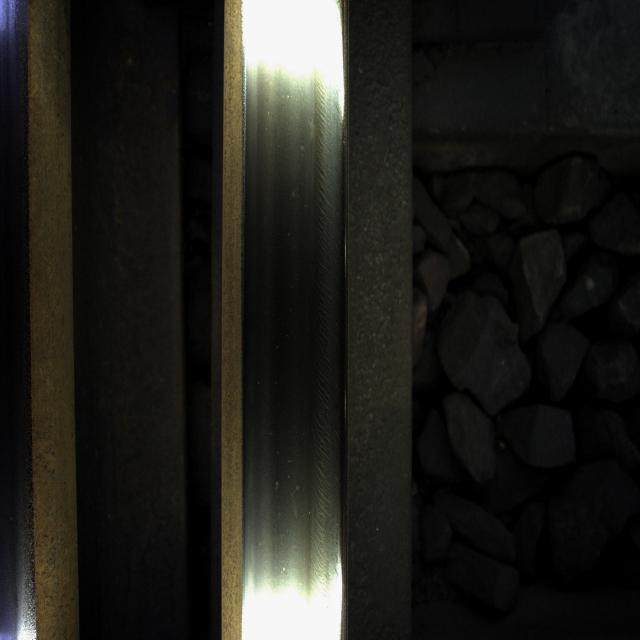break: (249, 64, 330, 521)
